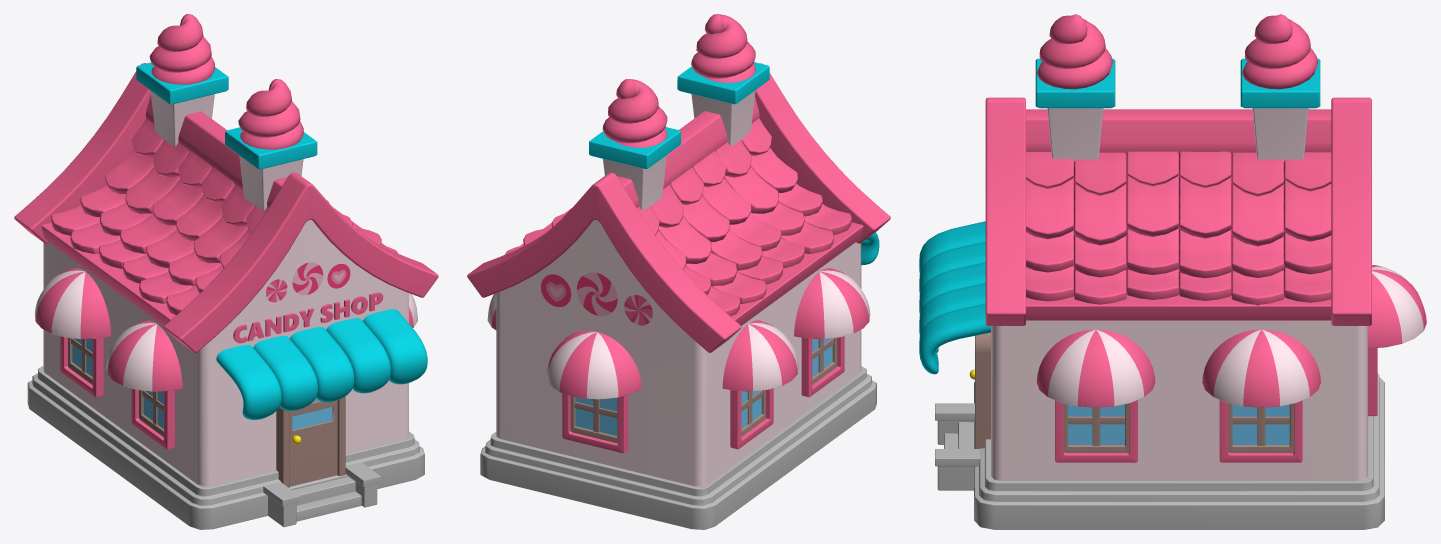
Rendered from Store_8_Candy_shop_1.glb.
3 views of the same model, side by side, from view 1: azimuth 30°, elevation 25°; view 2: azimuth 150°, elevation 25°; view 3: azimuth 270°, elevation 25° (orthographic). The views are drawn at different scales.
Visible parts, largest first — view 1: Store_8_Candy_shop_1; view 2: Store_8_Candy_shop_1; view 3: Store_8_Candy_shop_1.
Part boxes in pixels (x1=…): Store_8_Candy_shop_1: x1=14, y1=14, x2=438, y2=529; Store_8_Candy_shop_1: x1=467, y1=14, x2=890, y2=529; Store_8_Candy_shop_1: x1=919, y1=14, x2=1426, y2=529.
Size of the model in its own units: 6.94 by 8.72 by 8.84.
Materials: 1 (1 with a texture image).
